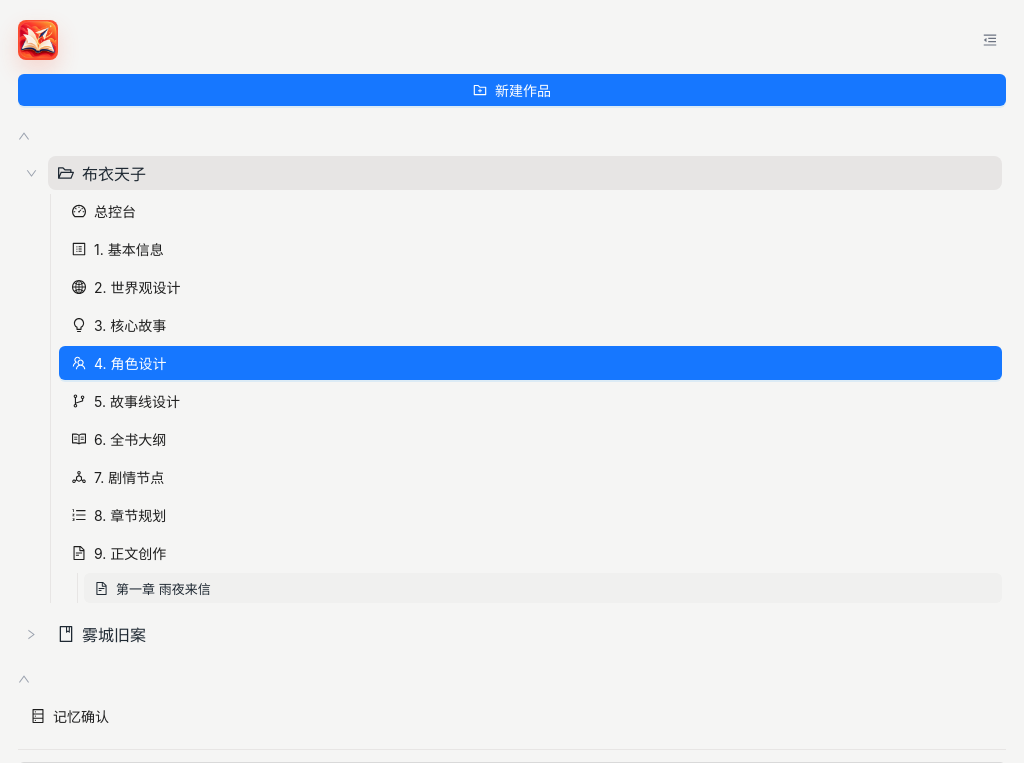
Scenario: ProjectSidebar › collapses project tree nodes and auxiliary modules independently
Expected: the button "4. 角色设计" is shown, [59, 346, 1002, 380]
What coordinates should you click on to do the following:
click the button named "收起作品 布衣天子"
I would click on:
 (31, 173)
Its box is [18, 156, 44, 190].
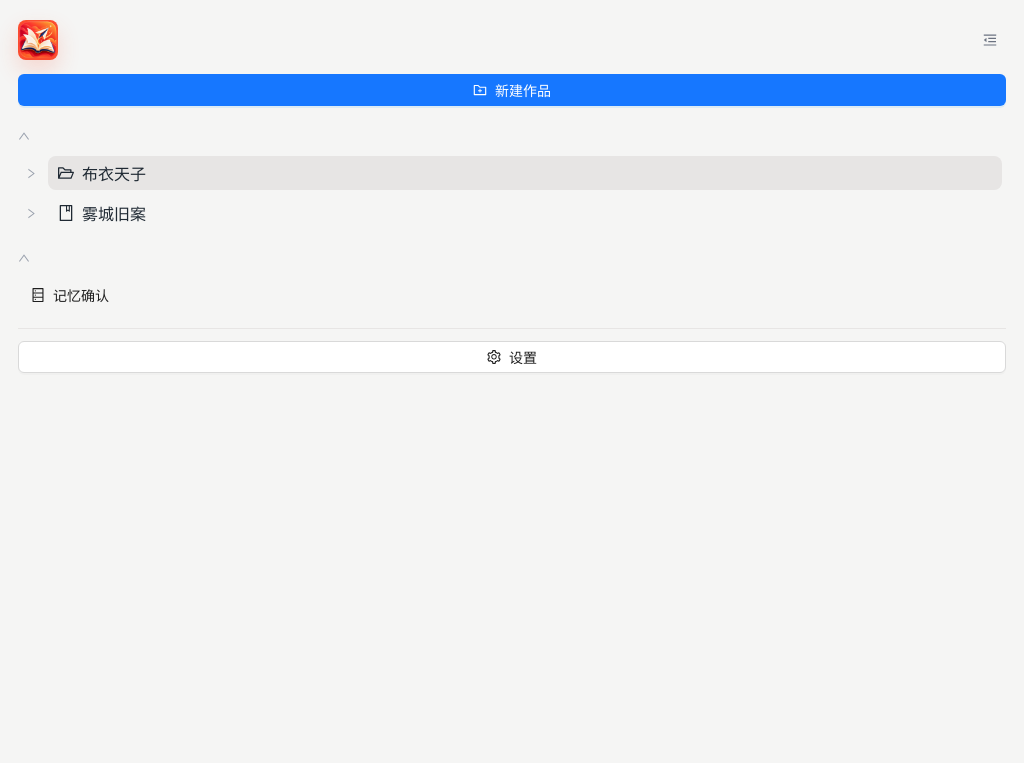
Expected: the button "4. 角色设计" is gone
Expected: the button "第一章 雨夜来信" is gone
What coordinates should you click on to do the following:
click the button named "展开作品 布衣天子"
I would click on:
 (31, 173)
Its box is [18, 156, 44, 190].
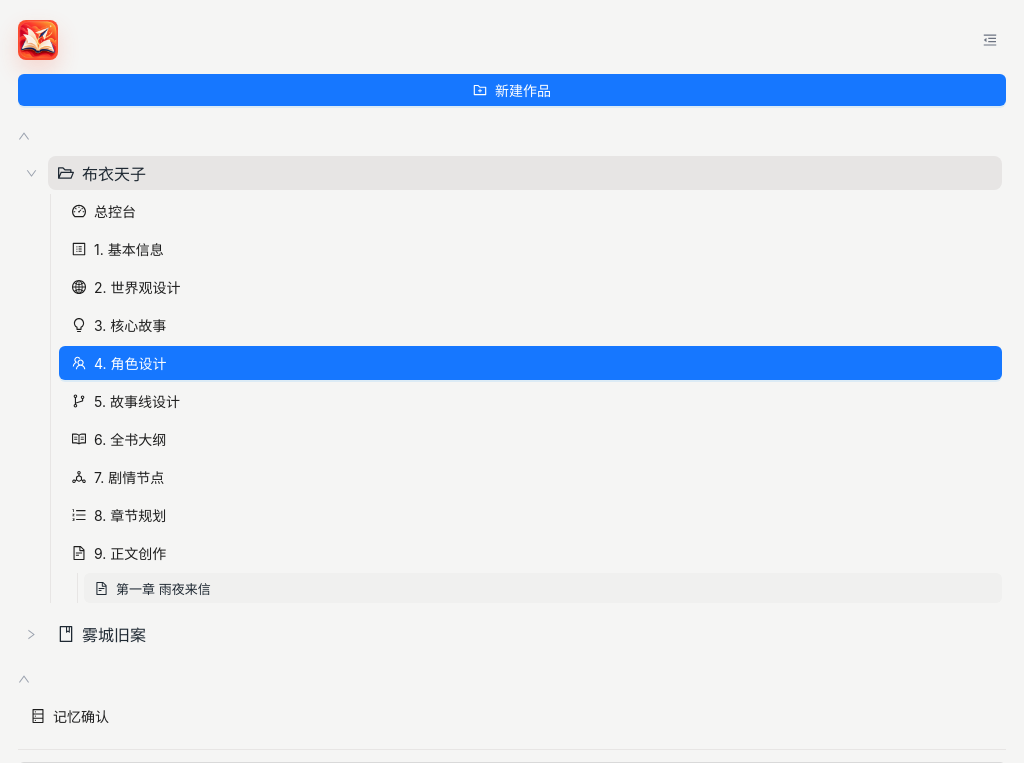
Expected: the button "记忆确认" is shown, [18, 699, 1002, 733]
Expected: the button "4. 角色设计" is shown, [59, 346, 1002, 380]
What coordinates should you click on to do the following:
click the button named "收起辅助系统"
I would click on:
 (24, 679)
Its box is [18, 665, 1002, 693].
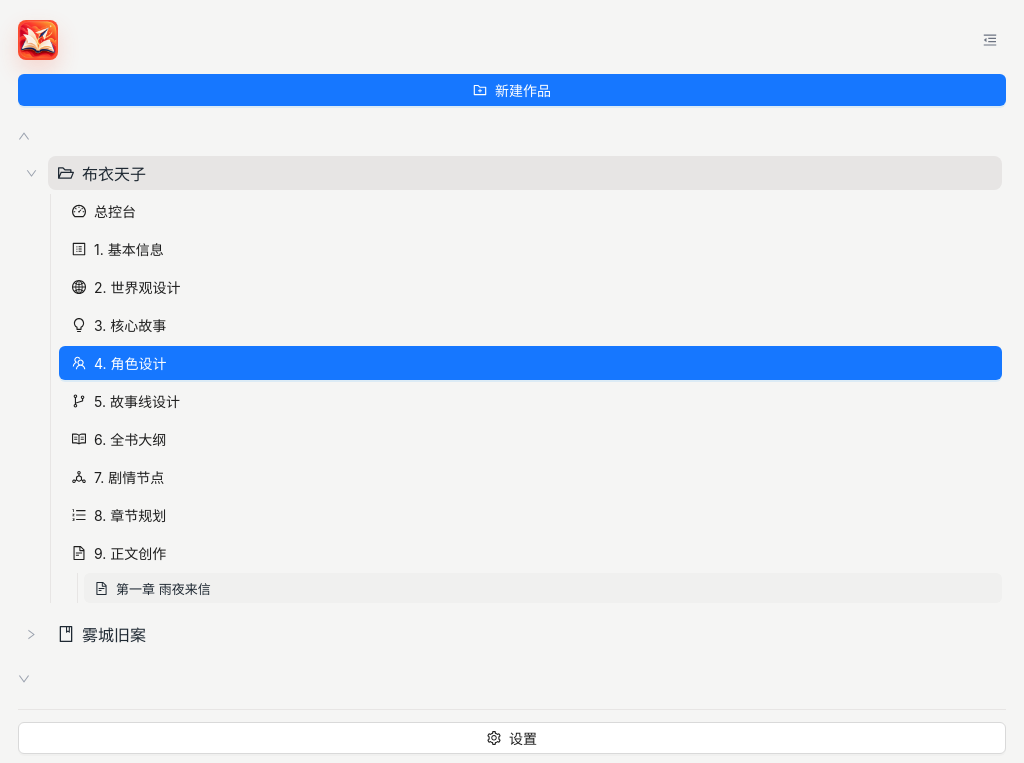
Expected: the button "记忆确认" is gone
